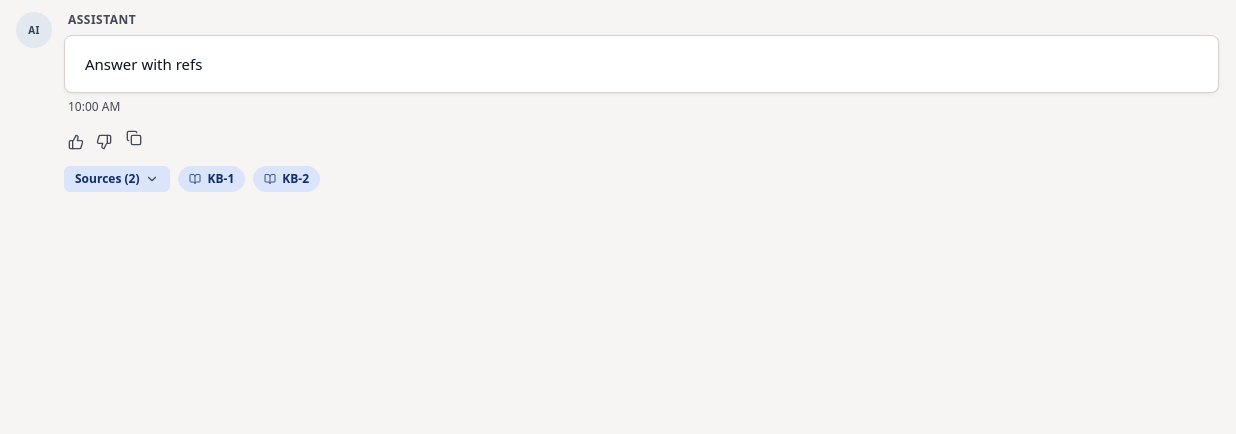
Test: MessageBubble › expands SourcesPanel when summary toggle is clicked
Click the button "Sources (2)" at [117, 179], box x1=64 y1=166 x2=170 y2=192
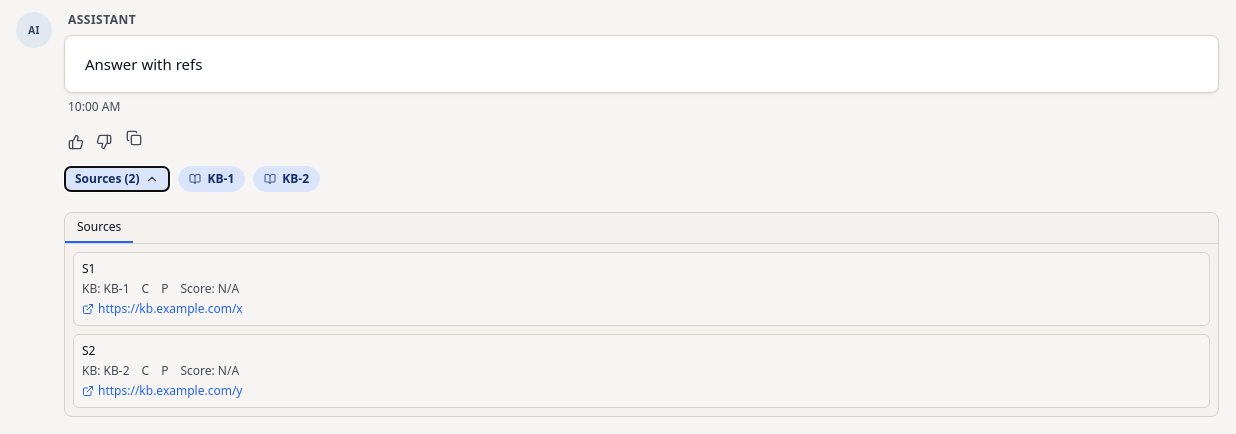
Check: the element with test id "sources-panel" is shown, box x1=64 y1=212 x2=1219 y2=417
Check: the tab "Sources" is shown, box x1=65 y1=213 x2=133 y2=243
